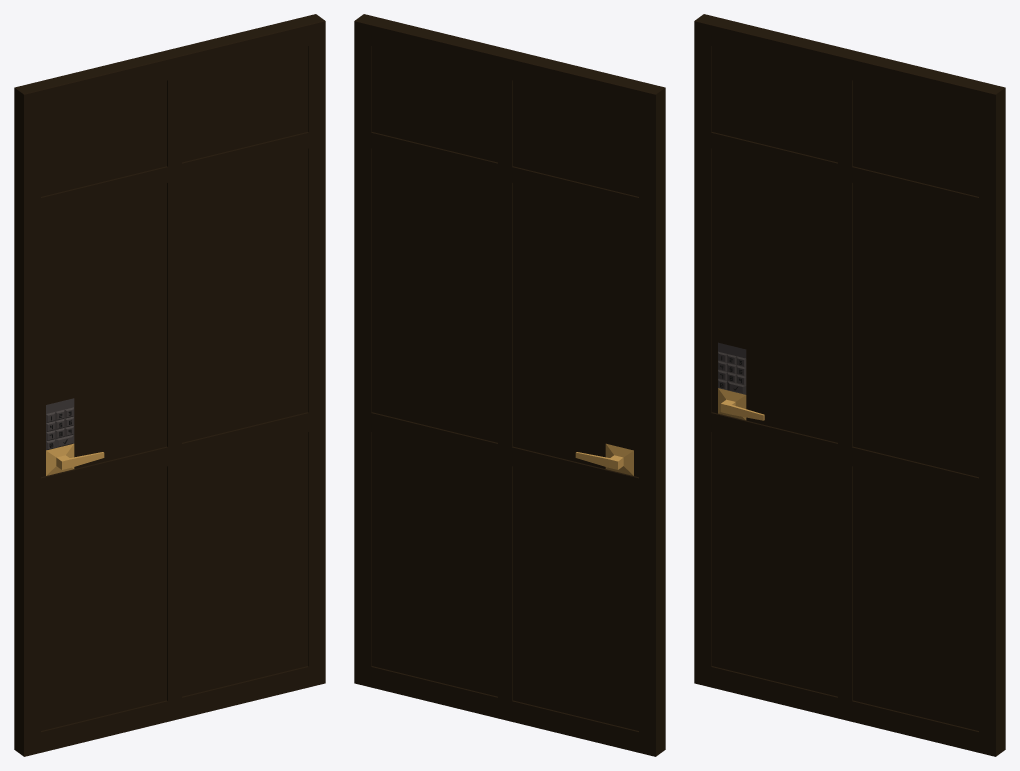
File: DoorWButtons.fbx
3 renders of one model, left to right at view 1: azimuth 30°, elevation 25°; view 2: azimuth 150°, elevation 25°; view 3: azimuth 330°, elevation 25°, orthographic.
Visible parts, largest first — view 1: Door2; view 2: Door2; view 3: Door2.
Part boxes in pixels (x1,y1,x2,y2): Door2: [14, 14, 325, 756]; Door2: [354, 14, 665, 756]; Door2: [694, 14, 1005, 756].
Bounding box in the file's own units: 548 × 1151 × 66.49.
